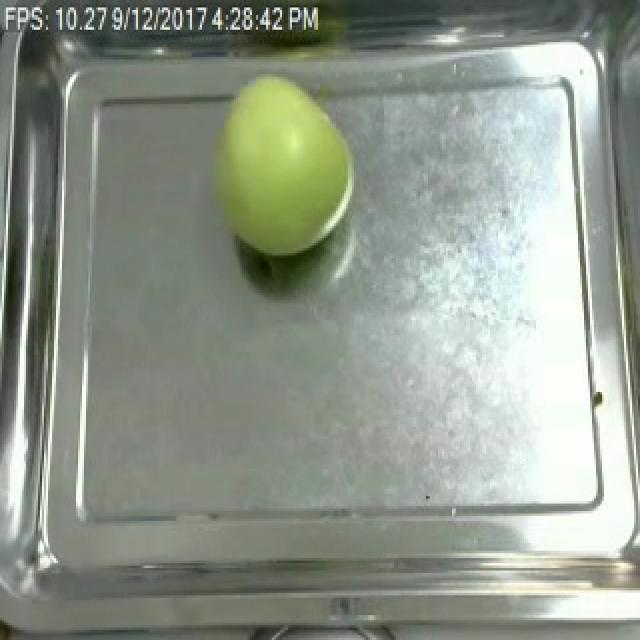50-_ripeness: (204, 70, 360, 253)
